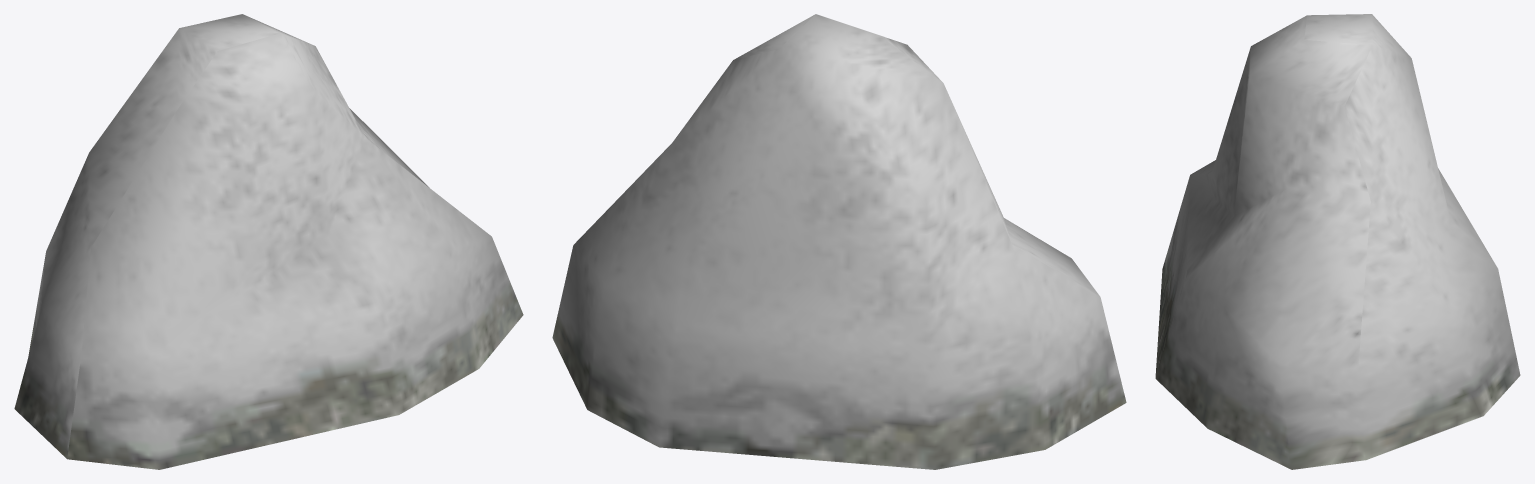
Rendered from general_obj_stone10_lod_01.fbx.
3 views of the same model, side by side, from view 1: azimuth 30°, elevation 25°; view 2: azimuth 150°, elevation 25°; view 3: azimuth 270°, elevation 25° (orthographic). The views are drawn at different scales.
Parts seen in each view (by area): view 1: Sphere02; view 2: Sphere02; view 3: Sphere02.
Boxes of the visible parts, bbox=[...] form: Sphere02: bbox=[14, 14, 523, 469]; Sphere02: bbox=[552, 14, 1126, 469]; Sphere02: bbox=[1155, 14, 1520, 469].
Bounding box in the file's own units: 3.64 × 2.38 × 2.46.
